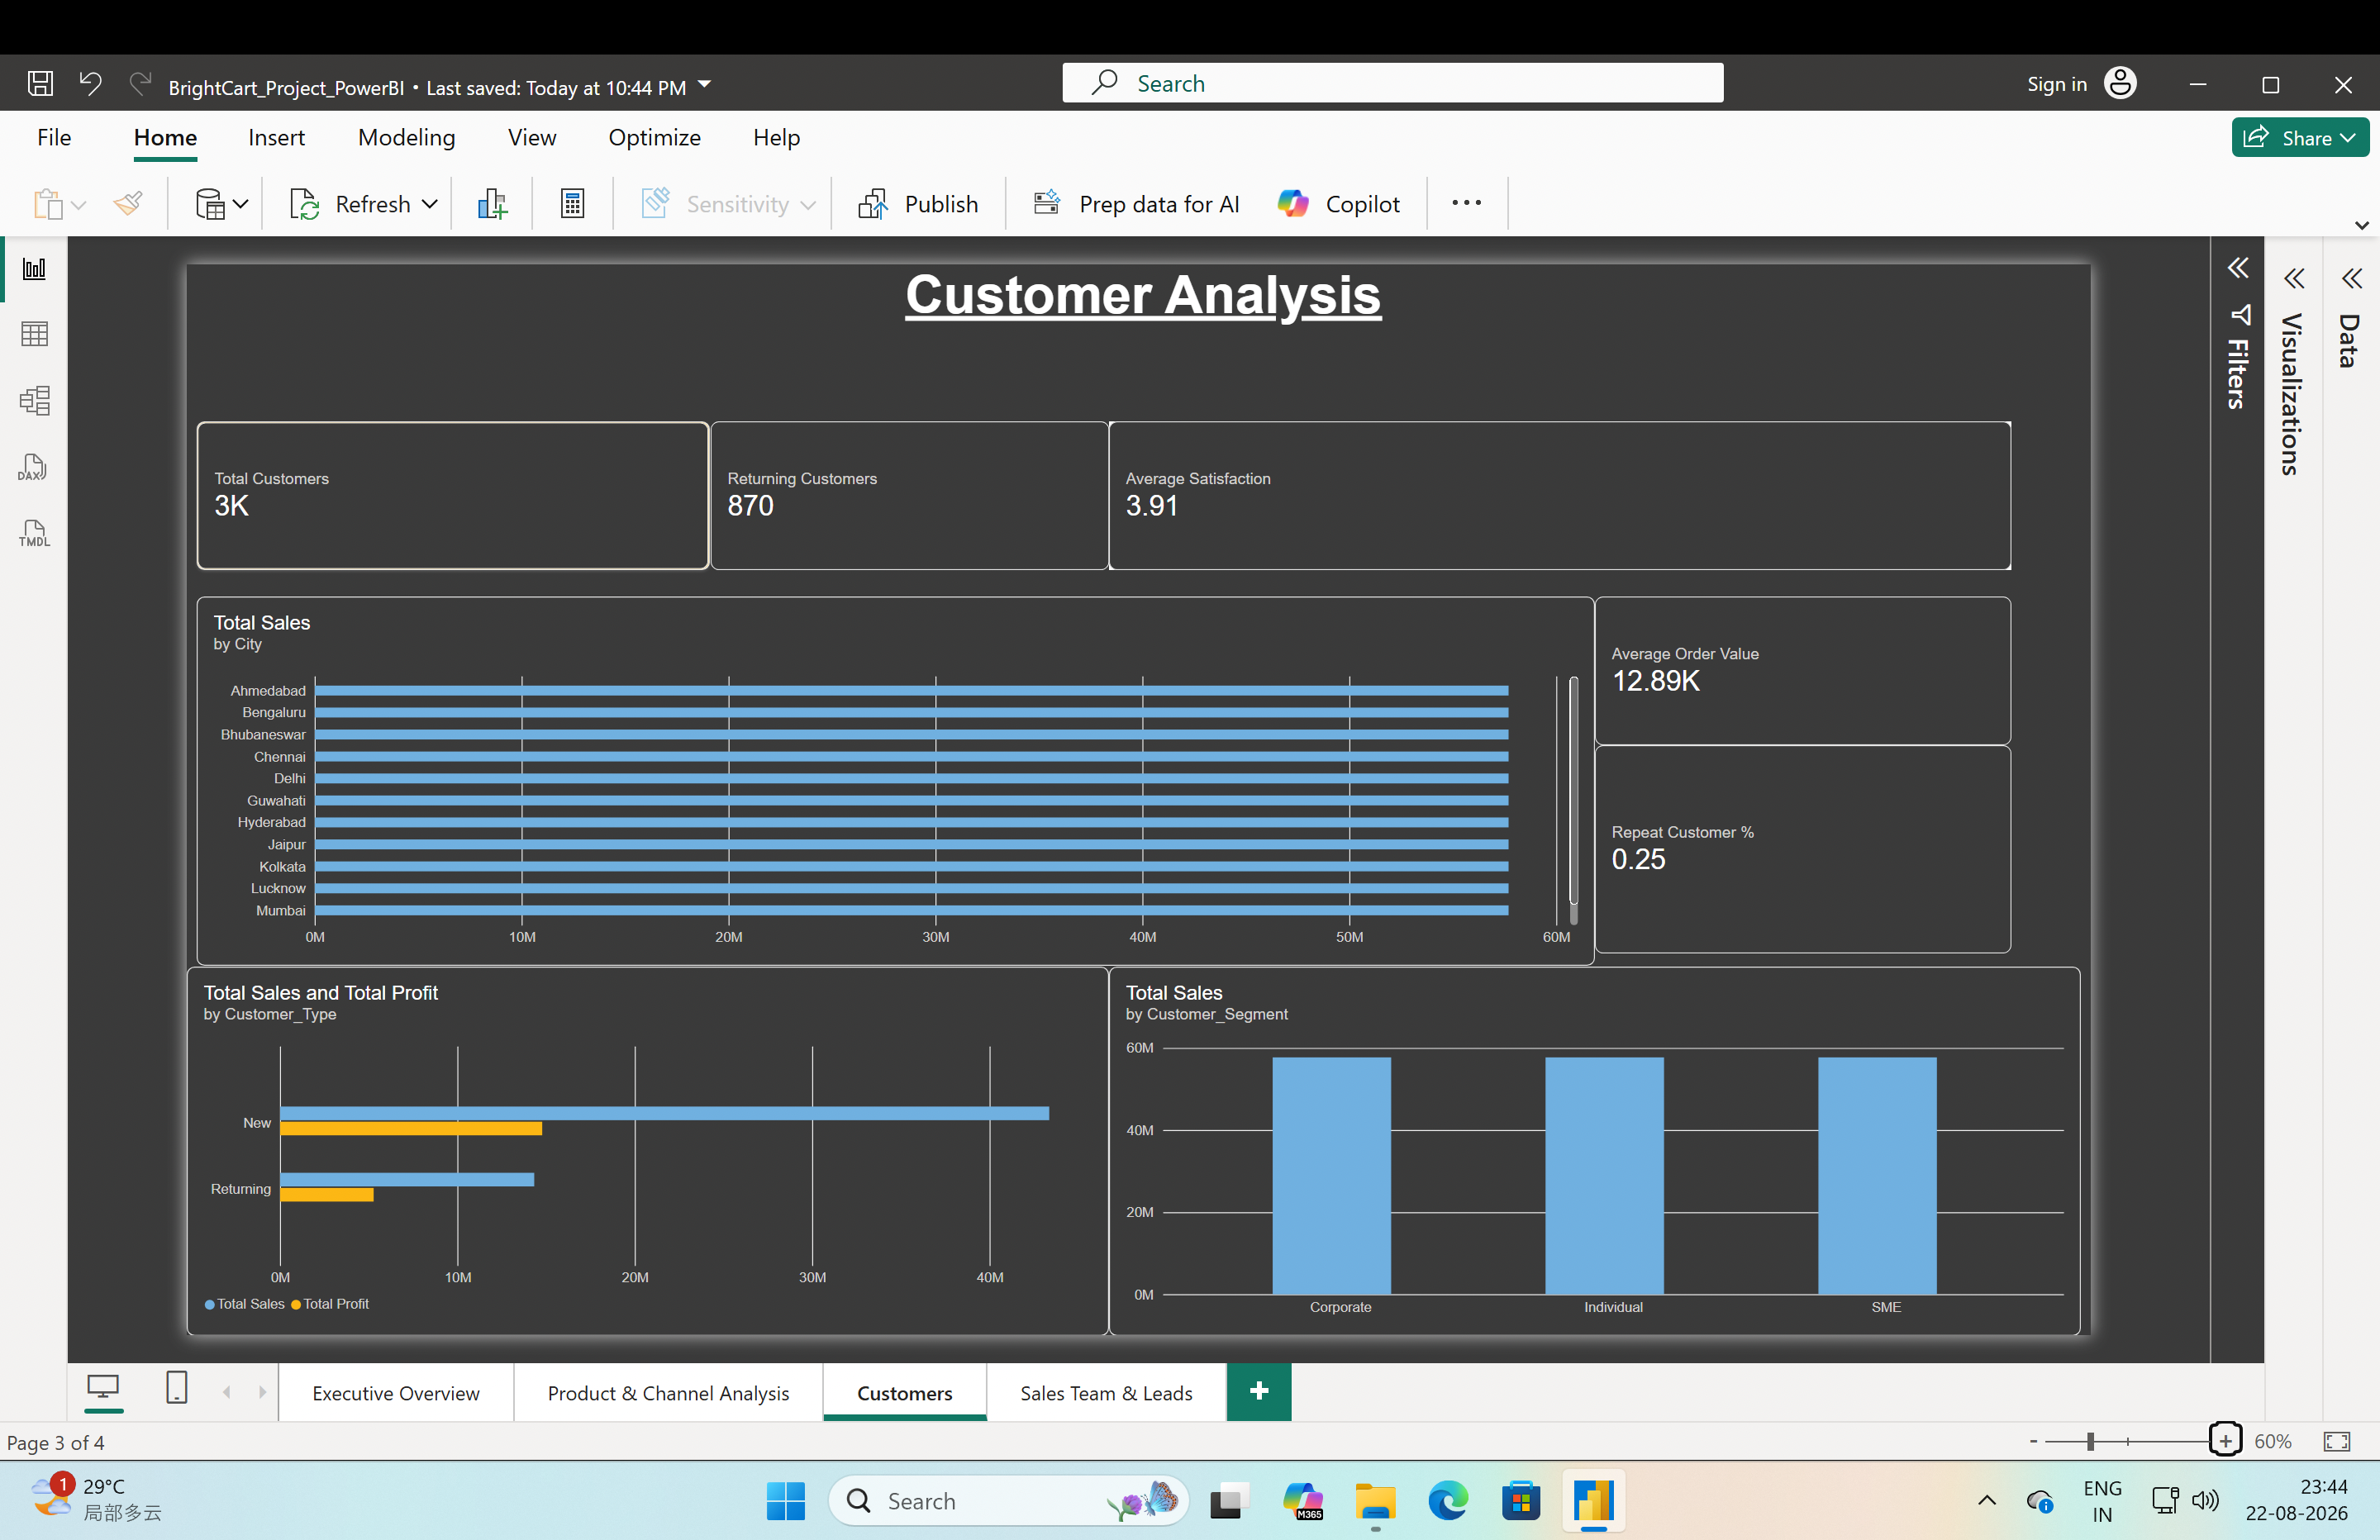

Layout of this report page (visuals, bound fields, positions):
{"tool":"powerbi","page":{"name":"Customers","canvas":[1920,1080],"ordinal":2},"visuals":[{"type":"textbox","box":[10,0,1910,100],"z":0},{"type":"clusteredBarChart","fields":{"Category":["SalesTransactionsTable.Customer_Type"],"Y":["SalesTransactionsTable.Total Sales","SalesTransactionsTable.Total Profit"]},"box":[0,707.5,930,372.5],"z":1000},{"type":"columnChart","fields":{"Category":["LeadsPipelineTable.Customer_Segment"],"Y":["SalesTransactionsTable.Total Sales"]},"box":[930,707.5,980,372.5],"z":2000},{"type":"clusteredBarChart","fields":{"Category":["LeadsPipelineTable.City"],"Y":["SalesTransactionsTable.Total Sales"]},"box":[10,335,1410,372.5],"z":3000},{"type":"cardVisual","fields":{"Data":["SalesTransactionsTable.Total Customers"]},"box":[10,157.5,517.5,150],"z":4000},{"type":"cardVisual","fields":{"Data":["SalesTransactionsTable.Returning Customers"]},"box":[527.5,157.5,402.5,150],"z":5000},{"type":"cardVisual","fields":{"Data":["SalesTransactionsTable.Repeat Customer %"]},"box":[1420,485,420,210],"z":6000},{"type":"cardVisual","fields":{"Data":["SalesTransactionsTable.Average Order Value"]},"box":[1420,335,420,150],"z":7000},{"type":"cardVisual","fields":{"Data":["SalesTransactionsTable.Average Satisfaction"]},"box":[930,157.5,910,150],"z":8000}]}

Visuals, with their boxes on the page's 1920x1080 design canvas (x1, y1, x2, y2). These are canvas units, not pixel positions in the 2380x1540 screenshot, which may show the page scaled, cropped or inside an application window:
textbox: BBox(10, 0, 1920, 100)
clusteredBarChart - SalesTransactionsTable.Customer_Type x SalesTransactionsTable.Total Sales: BBox(0, 708, 930, 1080)
columnChart - LeadsPipelineTable.Customer_Segment x SalesTransactionsTable.Total Sales: BBox(930, 708, 1910, 1080)
clusteredBarChart - LeadsPipelineTable.City x SalesTransactionsTable.Total Sales: BBox(10, 335, 1420, 708)
cardVisual - SalesTransactionsTable.Total Customers: BBox(10, 158, 528, 308)
cardVisual - SalesTransactionsTable.Returning Customers: BBox(528, 158, 930, 308)
cardVisual - SalesTransactionsTable.Repeat Customer %: BBox(1420, 485, 1840, 695)
cardVisual - SalesTransactionsTable.Average Order Value: BBox(1420, 335, 1840, 485)
cardVisual - SalesTransactionsTable.Average Satisfaction: BBox(930, 158, 1840, 308)
